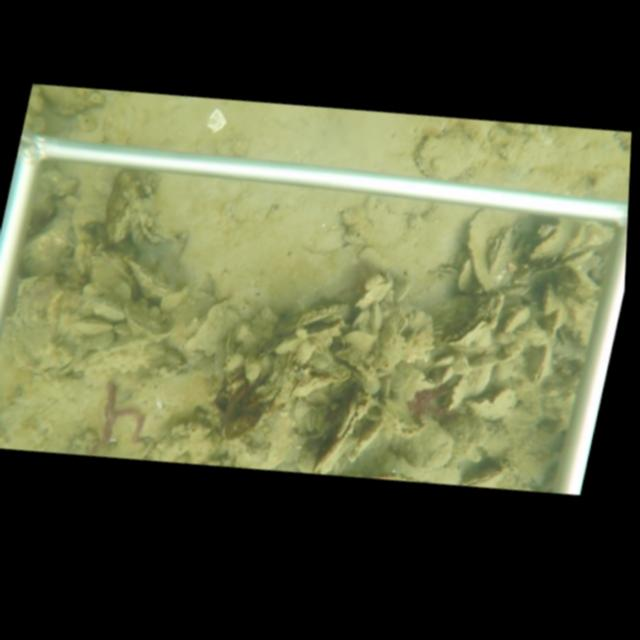Oyster-Closed: (411, 132, 489, 181), (128, 259, 179, 300), (122, 300, 168, 344), (465, 386, 518, 421), (485, 225, 515, 280), (526, 342, 554, 388), (441, 377, 468, 412), (458, 467, 504, 487), (68, 316, 113, 336), (502, 305, 533, 334), (392, 277, 414, 305), (451, 350, 472, 375), (368, 300, 382, 334), (223, 328, 237, 360), (302, 408, 313, 434), (289, 399, 302, 420), (440, 363, 452, 384)
Oyster-Indeterminate: (71, 339, 167, 384), (178, 295, 228, 359), (464, 209, 497, 292)
Oyster-Open: (311, 398, 369, 473), (439, 289, 505, 349), (521, 224, 574, 260)
